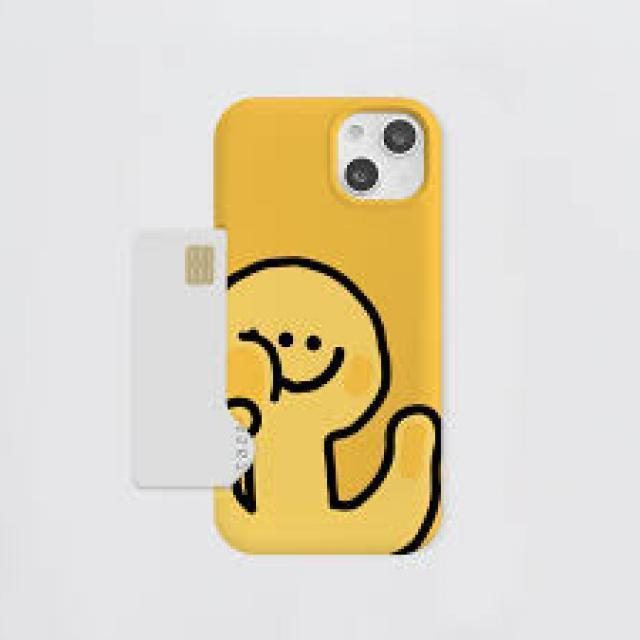mobile: (109, 73, 463, 586)
